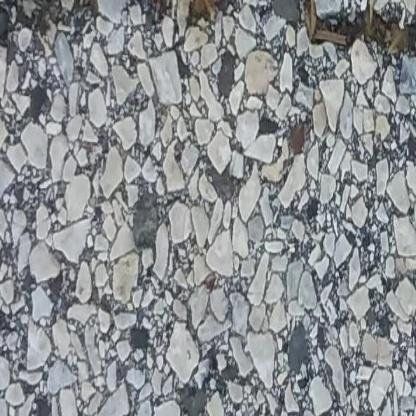Cracks: (0, 0, 265, 48), (296, 0, 416, 72)
